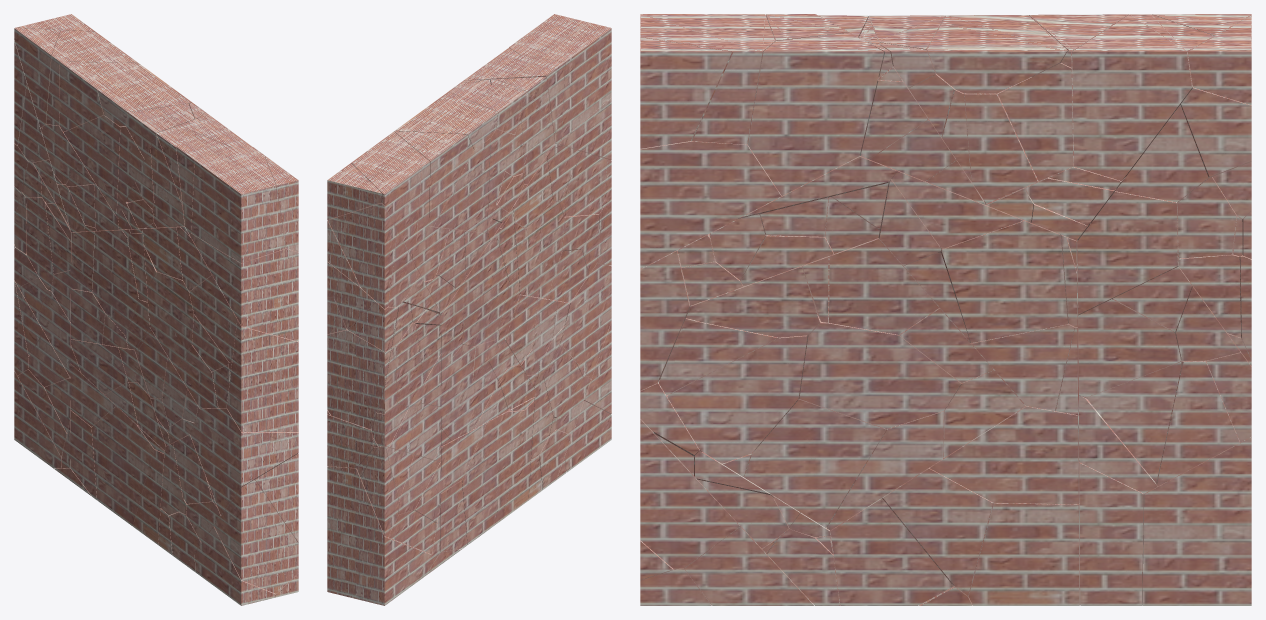
Rendered from wall_frac.fbx.
The picture shows the model from 3 angles, left to right: view 1: azimuth 30°, elevation 25°; view 2: azimuth 150°, elevation 25°; view 3: azimuth 270°, elevation 25°; orthographic projection. The views are drawn at different scales.
Parts seen in each view (by area): view 1: Cube_cell.002_cell.006, Cube_cell.009_cell.005, Cube_cell.002_cell, Cube_cell.003_cell.003, Cube_cell.009_cell.009, Cube_cell.009_cell.011_cell.002, Cube_cell.009_cell.008_cell.001, Cube_cell.009_cell.002_cell.001, Cube_cell.001_cell.003_cell.005, Cube_cell.001_cell.003_cell.010, Cube_cell.001_cell.003_cell, Cube_cell.001_cell.002 (+63 smaller); view 2: Cube_cell.005_cell.004, Cube_cell.002_cell.006, Cube_cell.009_cell.011_cell.002, Cube_cell.005_cell.005_cell.001, Cube_cell.005_cell.008, Cube_cell.009_cell.009, Cube_cell.009_cell.008_cell.001, Cube_cell.009_cell.002_cell.001, Cube_cell.001_cell.003_cell.005, Cube_cell.001_cell.003_cell.010, Cube_cell.001_cell.003_cell, Cube_cell.001_cell.002 (+66 smaller); view 3: Cube_cell.002_cell.003, Cube_cell.005_cell.004, Cube_cell.001_cell.002, Cube_cell.009_cell.001_cell.019, Cube_cell.002_cell, Cube_cell.009_cell.008_cell.001, Cube_cell.009_cell.001_cell.009, Cube_cell.009_cell.011_cell.012, Cube_cell.009_cell.001_cell.006, Cube_cell.009_cell.011_cell.010, Cube_cell.005_cell.003, Cube_cell.009_cell.011_cell.005 (+64 smaller).
Boxes of the visible parts, x1,y1,x2,y2 form: Cube_cell.002_cell.006: (191,147,285,263); Cube_cell.009_cell.005: (226,320,298,431); Cube_cell.002_cell: (190,233,298,341); Cube_cell.003_cell.003: (214,479,298,593); Cube_cell.009_cell.009: (190,408,298,515); Cube_cell.009_cell.011_cell.002: (91,406,154,526); Cube_cell.009_cell.008_cell.001: (92,229,141,335); Cube_cell.009_cell.002_cell.001: (147,272,193,369); Cube_cell.001_cell.003_cell.005: (59,61,137,131); Cube_cell.001_cell.003_cell.010: (63,115,125,216); Cube_cell.001_cell.003_cell: (97,64,191,126); Cube_cell.001_cell.002: (46,30,137,125); Cube_cell.005_cell.004: (327,466,431,605); Cube_cell.002_cell.006: (509,19,611,139); Cube_cell.009_cell.011_cell.002: (462,410,524,544); Cube_cell.005_cell.005_cell.001: (327,328,390,429); Cube_cell.005_cell.008: (328,203,397,309); Cube_cell.009_cell.009: (560,263,611,378); Cube_cell.009_cell.008_cell.001: (462,238,509,345); Cube_cell.009_cell.002_cell.001: (517,200,564,298); Cube_cell.001_cell.003_cell.005: (396,131,473,226); Cube_cell.001_cell.003_cell.010: (434,138,490,232); Cube_cell.001_cell.003_cell: (396,92,497,149); Cube_cell.001_cell.002: (351,131,429,243); Cube_cell.002_cell.003: (748,32,884,195); Cube_cell.005_cell.004: (1142,437,1251,605); Cube_cell.001_cell.002: (1072,14,1214,180); Cube_cell.009_cell.001_cell.019: (798,314,960,428); Cube_cell.002_cell: (640,141,781,268); Cube_cell.009_cell.008_cell.001: (938,219,1067,342); Cube_cell.009_cell.001_cell.009: (667,335,807,463); Cube_cell.009_cell.011_cell.012: (929,405,1079,504); Cube_cell.009_cell.001_cell.006: (744,399,886,527); Cube_cell.009_cell.011_cell.010: (968,503,1080,605); Cube_cell.005_cell.003: (1077,191,1178,315); Cube_cell.009_cell.011_cell.005: (830,498,953,605).
Size of the model in its own units: 29.23 by 200 by 200.
1 material, 1 textured.
